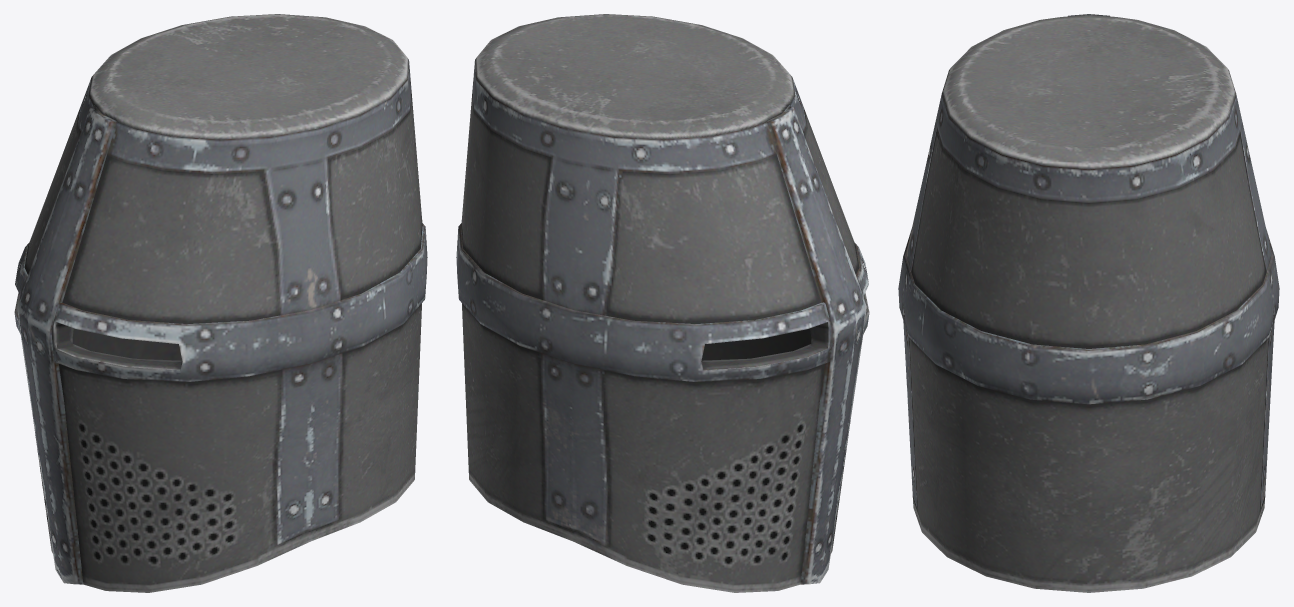
Rendered from Tophelm.fbx.
3 renders of one model, left to right at view 1: azimuth 30°, elevation 25°; view 2: azimuth 150°, elevation 25°; view 3: azimuth 270°, elevation 25°, orthographic. The views are drawn at different scales.
Parts seen in each view (by area): view 1: Tophelm_LOD0; view 2: Tophelm_LOD0; view 3: Tophelm_LOD0.
Boxes of the visible parts, left/top/right/bottom form: Tophelm_LOD0: left=14, top=14, right=427, bottom=592; Tophelm_LOD0: left=456, top=14, right=869, bottom=592; Tophelm_LOD0: left=898, top=14, right=1279, bottom=592.
Size of what is drawn, in the model's own units: 27.37 by 32.18 by 22.18.
